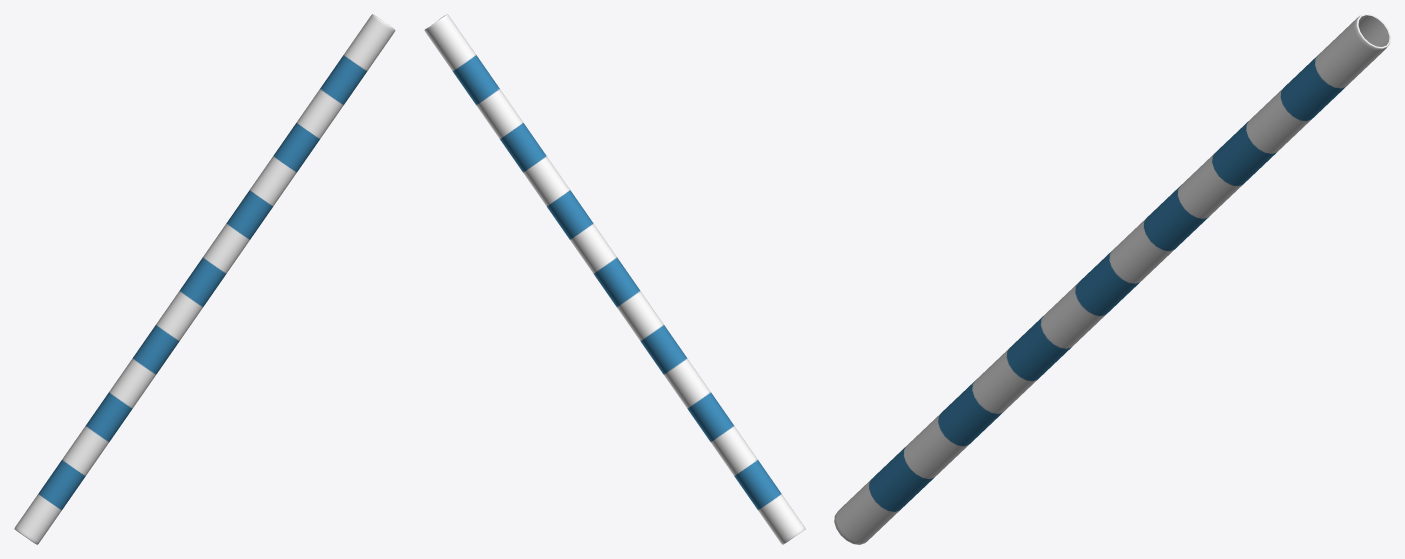
File: Pitillo.glb
3 views of the same model, side by side, from view 1: azimuth 30°, elevation 25°; view 2: azimuth 150°, elevation 25°; view 3: azimuth 330°, elevation 25° (orthographic). The views are drawn at different scales.
Visible parts, largest first — view 1: Pitillo; view 2: Pitillo; view 3: Pitillo.
Part boxes in pixels (bbox=[...]): Pitillo: bbox=[14, 14, 395, 544]; Pitillo: bbox=[424, 14, 805, 544]; Pitillo: bbox=[834, 14, 1390, 544].
Size of the model in its own units: 11.08 by 12.5 by 0.7414.
1 material, 1 textured.
